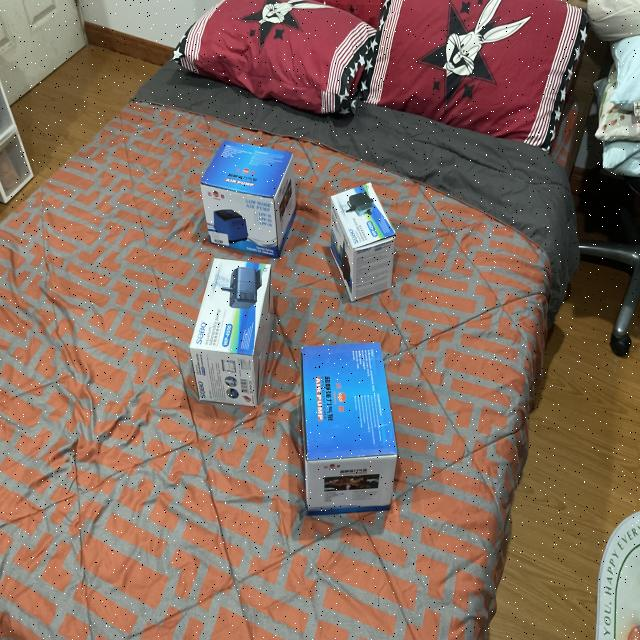SOBO_WP_4200: (184, 252, 284, 409), (318, 167, 406, 300)
YAMANO_LPP_20: (290, 336, 412, 534), (195, 132, 305, 276)
